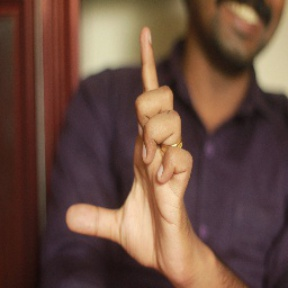L: (64, 26, 198, 253)
